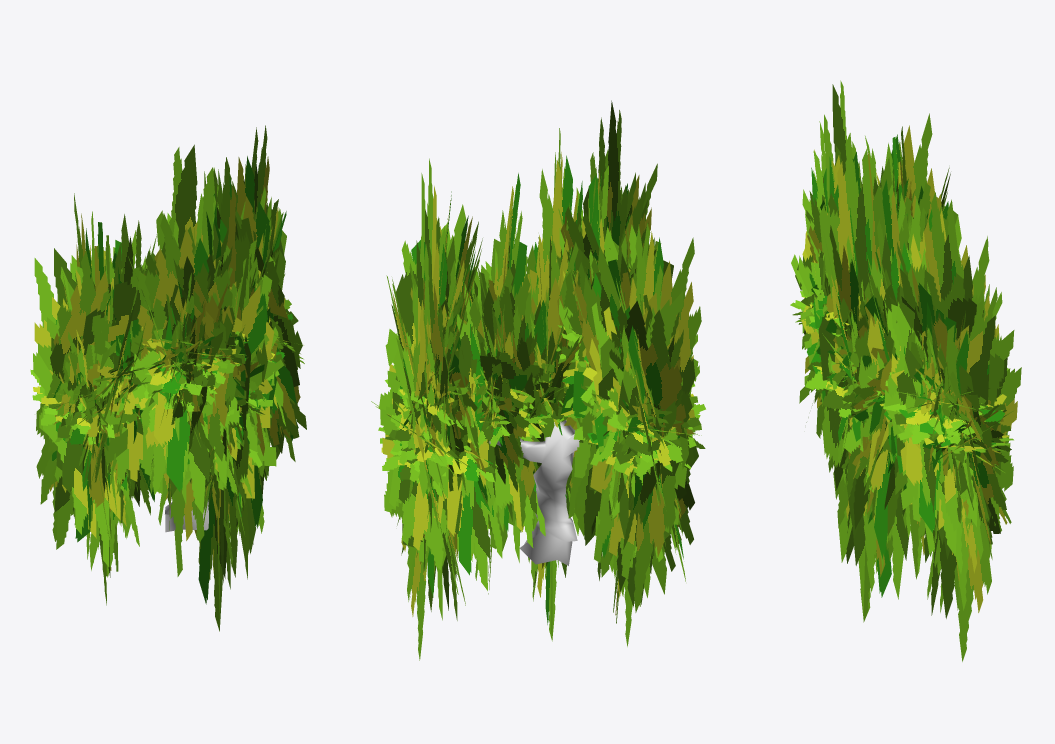
File: tropic-tree3.fbx
The picture shows the model from 3 angles, left to right: view 1: azimuth 30°, elevation 25°; view 2: azimuth 150°, elevation 25°; view 3: azimuth 270°, elevation 25°; orthographic projection. The views are drawn at different scales.
Parts seen in each view (by area): view 1: Plane.003, Cube|Plane|Dupli|5, Cube|Plane|Dupli|239, Cube|Plane|Dupli|188, Cube|Plane|Dupli|141, Cube|Plane|Dupli|233, Cube|Plane|Dupli|229, Cube|Plane|Dupli|171, Cube|Plane|Dupli|217, Cube|Plane|Dupli|142, Cube|Plane|Dupli|125, Cube|Plane|Dupli|23 (+33 smaller); view 2: Plane.003, Cube|Plane|Dupli|233, Cube, Cube|Plane|Dupli|239, Cube|Plane|Dupli|40, Cube|Plane|Dupli|2, Cube|Plane|Dupli|43, Cube|Plane|Dupli|97, Cube|Plane|Dupli|251, Cube|Plane|Dupli|50, Cube|Plane|Dupli|285, Cube|Plane|Dupli|250 (+38 smaller); view 3: Plane.003, Cube|Plane|Dupli|5, Cube|Plane|Dupli|74, Cube|Plane|Dupli|44, Cube|Plane|Dupli|97, Cube|Plane|Dupli|99, Cube|Plane|Dupli|138, Cube|Plane|Dupli|113, Cube|Plane|Dupli|119, Cube|Plane|Dupli|2, Cube|Plane|Dupli|54, Cube|Plane|Dupli|285 (+38 smaller).
Part boxes in pixels (x1,y1,x2,y2): Plane.003: (30, 299, 304, 459); Cube|Plane|Dupli|5: (194, 157, 250, 630); Cube|Plane|Dupli|239: (33, 248, 126, 566); Cube|Plane|Dupli|188: (133, 213, 239, 514); Cube|Plane|Dupli|141: (156, 144, 219, 576); Cube|Plane|Dupli|233: (36, 251, 116, 541); Cube|Plane|Dupli|229: (36, 246, 127, 549); Cube|Plane|Dupli|171: (145, 213, 218, 329); Cube|Plane|Dupli|217: (84, 267, 144, 404); Cube|Plane|Dupli|142: (144, 242, 232, 358); Cube|Plane|Dupli|125: (240, 217, 299, 445); Cube|Plane|Dupli|23: (170, 254, 266, 518); Plane.003: (371, 282, 705, 496); Cube|Plane|Dupli|233: (609, 237, 701, 612); Cube: (489, 420, 579, 565); Cube|Plane|Dupli|239: (609, 300, 698, 571); Cube|Plane|Dupli|40: (428, 421, 502, 590); Cube|Plane|Dupli|2: (531, 155, 573, 641); Cube|Plane|Dupli|43: (379, 329, 470, 570); Cube|Plane|Dupli|97: (407, 243, 447, 660); Cube|Plane|Dupli|251: (576, 291, 683, 577); Cube|Plane|Dupli|50: (457, 283, 512, 531); Cube|Plane|Dupli|285: (612, 224, 663, 646); Cube|Plane|Dupli|250: (577, 245, 666, 606); Plane.003: (790, 284, 1013, 483); Cube|Plane|Dupli|5: (818, 133, 892, 617); Cube|Plane|Dupli|74: (858, 192, 925, 599); Cube|Plane|Dupli|44: (920, 299, 1021, 537); Cube|Plane|Dupli|97: (933, 239, 999, 661); Cube|Plane|Dupli|99: (908, 192, 995, 610); Cube|Plane|Dupli|138: (884, 251, 977, 556); Cube|Plane|Dupli|113: (894, 270, 1004, 475); Cube|Plane|Dupli|119: (896, 234, 969, 573); Cube|Plane|Dupli|2: (833, 151, 893, 622); Cube|Plane|Dupli|54: (877, 179, 924, 579); Cube|Plane|Dupli|285: (891, 113, 942, 527).
Bounding box in the file's own units: 4439 × 8827 × 3220.
